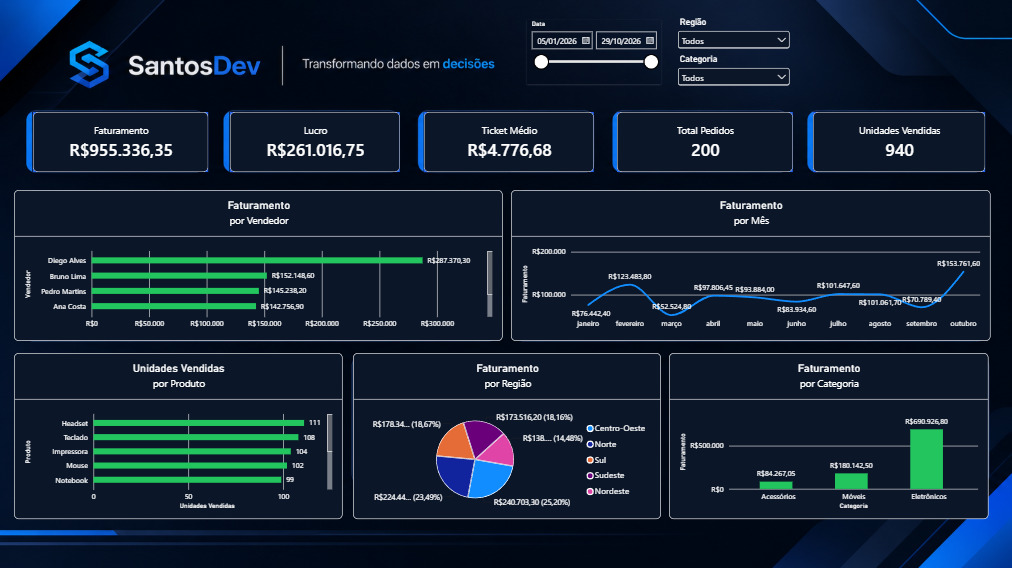

The page's visual inventory and layout, read from the dashboard file:
{"tool":"powerbi","page":{"name":"Vendas","canvas":[1920,1080],"ordinal":0},"visuals":[{"type":"cardVisual","fields":{"Data":["Vendas.Lucro"]},"box":[505.1,250.9,280.8,99.7],"z":0},{"type":"cardVisual","fields":{"Data":["Vendas.Total Pedidos"]},"box":[1143.1,250.9,290.8,99.7],"z":1000},{"type":"cardVisual","fields":{"Data":["Vendas.Unidades Vendidas"]},"box":[1467.1,250.9,284.1,99.7],"z":2000},{"type":"cardVisual","fields":{"Data":["Vendas.Ticket Médio"]},"box":[824.1,250.9,280.8,99.7],"z":3000},{"type":"cardVisual","fields":{"Data":["Vendas.Faturamento"]},"box":[179.4,250.9,289.1,99.7],"z":4000},{"type":"lineChart","fields":{"Category":["Vendas.Data.Variação.Hierarquia de datas.Mês"],"Y":["Vendas.Faturamento"]},"box":[968.7,378.8,790.9,249.2],"z":5000},{"type":"barChart","fields":{"Category":["Vendas.Produto"],"Y":["Vendas.Unidades Vendidas"]},"box":[147.9,648,541.7,274.2],"z":6000},{"type":"pieChart","fields":{"Category":["Vendas.Região"],"Y":["Vendas.Faturamento"]},"box":[707.8,648,508.4,274.2],"z":7000},{"type":"columnChart","fields":{"Category":["Vendas.Categoria"],"Y":["Vendas.Faturamento"]},"box":[1229.5,648,526.7,274.2],"z":8000},{"type":"clusteredBarChart","fields":{"Category":["Vendas.Vendedor"],"Y":["Vendas.Faturamento"]},"box":[147.9,378.8,805.8,249.2],"z":9000},{"type":"actionButton","box":[0,0,100,40],"z":10000},{"type":"slicer","fields":{"Values":["Vendas.Data"]},"box":[995.3,99.7,221,106.3],"z":11000},{"type":"slicer","fields":{"Values":["Vendas.Região"]},"box":[1239.5,94.7,194.4,58.2],"z":12000},{"type":"slicer","fields":{"Values":["Vendas.Categoria"]},"box":[1239.5,154.5,194.4,61.5],"z":13000}]}

Visuals, with their boxes in screenshot pixels (x1, y1, x2, y2), scaled from the page's 1920x1080 canvas onto the 1012x568 screenshot:
cardVisual - Vendas.Lucro: bbox=[266, 132, 414, 184]
cardVisual - Vendas.Total Pedidos: bbox=[603, 132, 756, 184]
cardVisual - Vendas.Unidades Vendidas: bbox=[773, 132, 923, 184]
cardVisual - Vendas.Ticket Médio: bbox=[434, 132, 582, 184]
cardVisual - Vendas.Faturamento: bbox=[95, 132, 247, 184]
lineChart - Vendas.Data.Variação.Hierarquia de datas.Mês x Vendas.Faturamento: bbox=[511, 199, 927, 330]
barChart - Vendas.Produto x Vendas.Unidades Vendidas: bbox=[78, 341, 363, 485]
pieChart - Vendas.Região x Vendas.Faturamento: bbox=[373, 341, 641, 485]
columnChart - Vendas.Categoria x Vendas.Faturamento: bbox=[648, 341, 926, 485]
clusteredBarChart - Vendas.Vendedor x Vendas.Faturamento: bbox=[78, 199, 503, 330]
actionButton: bbox=[0, 0, 53, 21]
slicer - Vendas.Data: bbox=[525, 52, 641, 108]
slicer - Vendas.Região: bbox=[653, 50, 756, 80]
slicer - Vendas.Categoria: bbox=[653, 81, 756, 114]
